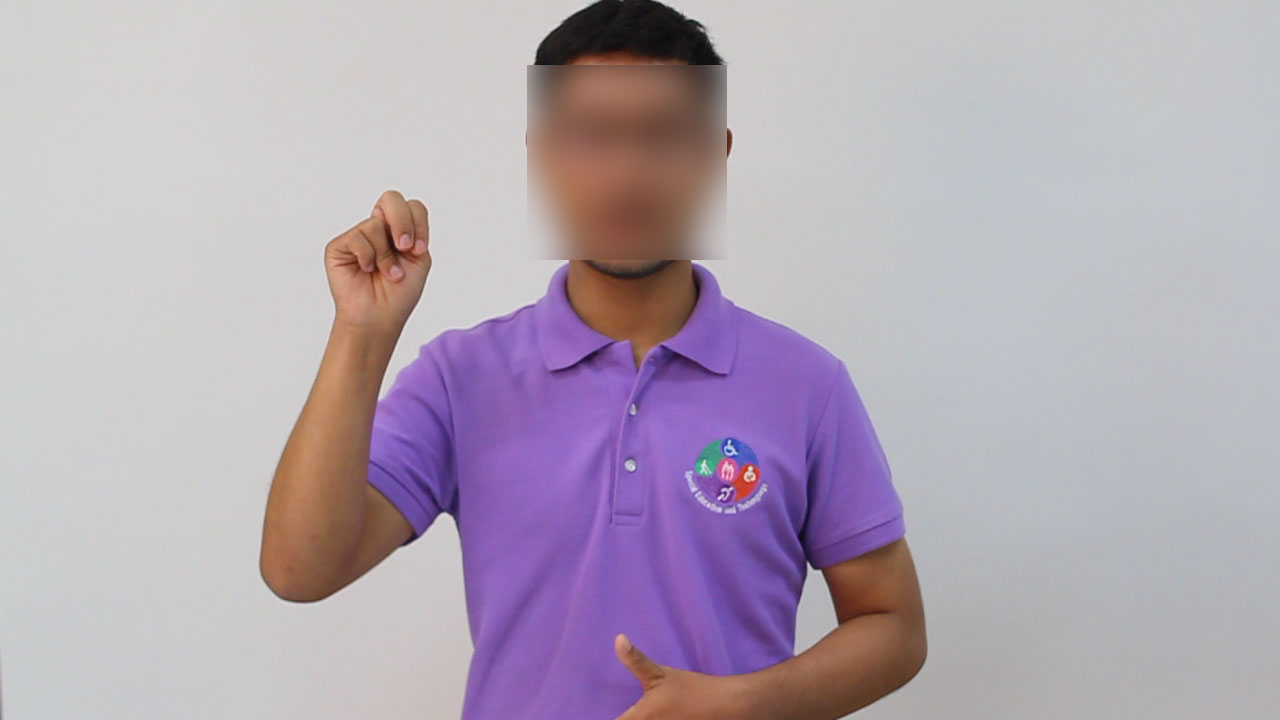nor: (308, 182, 447, 341)
